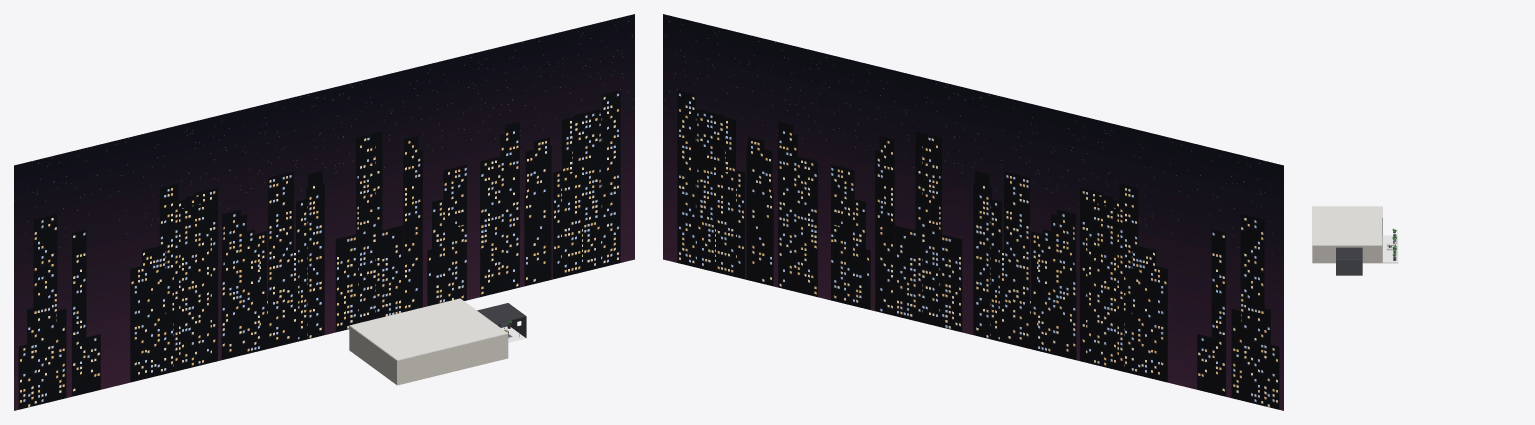
The model's file is home.glb.
The picture shows the model from 3 angles, left to right: view 1: azimuth 30°, elevation 25°; view 2: azimuth 150°, elevation 25°; view 3: azimuth 270°, elevation 25°; orthographic projection. The views are drawn at different scales.
Parts seen in each view (by area): view 1: Plane, Ceiling, WallFront, WallLeft, Ceiling.001; view 2: Plane; view 3: Ceiling, RightWall, WallRightA, BalconyDeck, WallRightB, Ceiling.001.
Part boxes in pixels (x1,y1,x2,y2): Plane: [14, 14, 634, 410]; Ceiling: [350, 298, 507, 360]; WallFront: [397, 333, 508, 385]; WallLeft: [349, 325, 397, 385]; Ceiling.001: [477, 303, 526, 323]; Plane: [663, 14, 1283, 410]; Ceiling: [1313, 206, 1381, 245]; RightWall: [1336, 259, 1362, 275]; WallRightA: [1313, 245, 1341, 263]; BalconyDeck: [1382, 235, 1398, 263]; WallRightB: [1354, 245, 1381, 263]; Ceiling.001: [1336, 247, 1362, 259].
Bounding box in the file's own units: 90 × 34 × 36.07.
390 materials, 6 textured.
